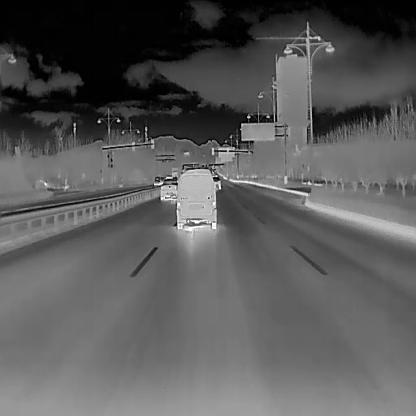car: (176, 165, 217, 229), (160, 178, 176, 202), (212, 176, 221, 190), (153, 176, 162, 184)
